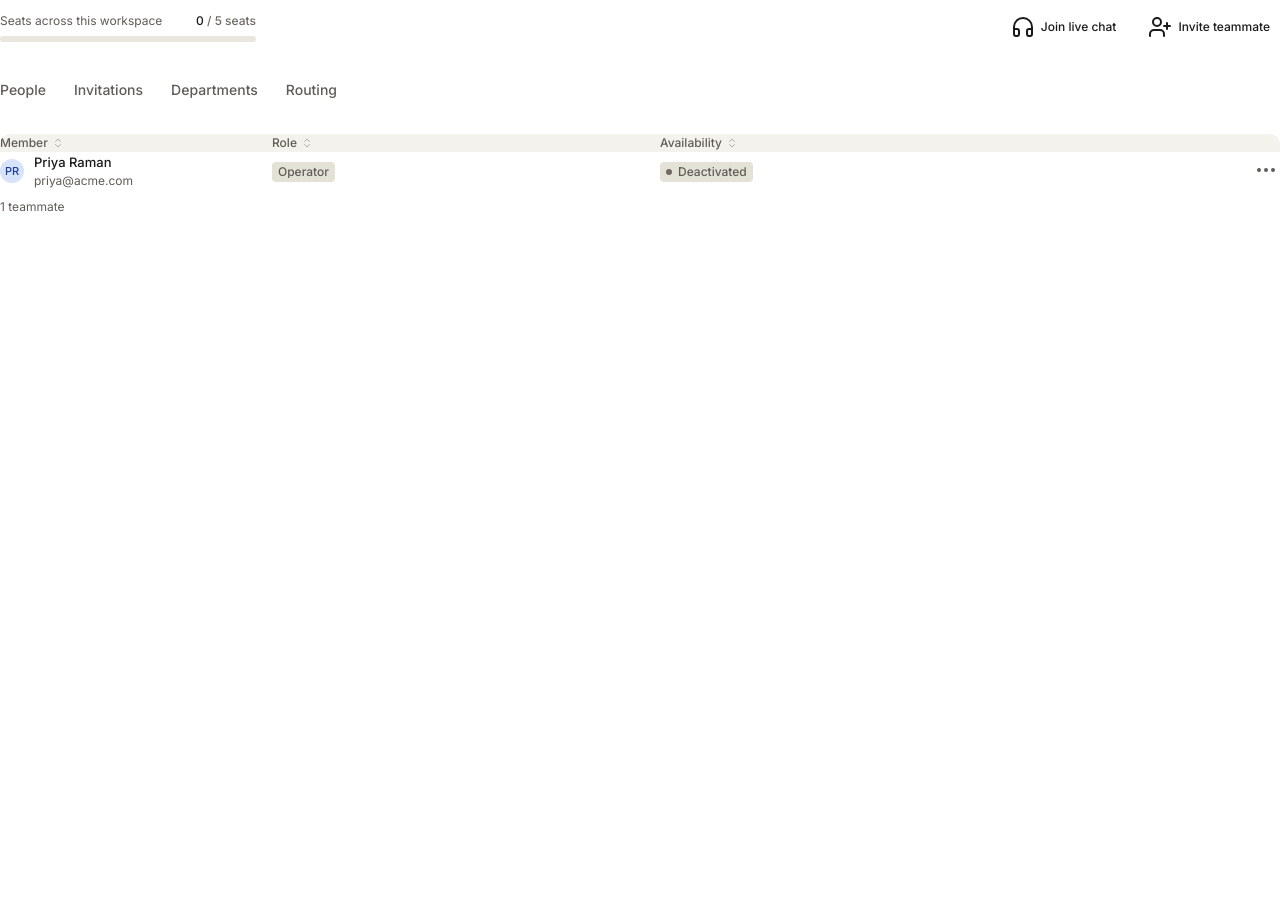
MembersPage — deactivating a teammate › warns that reactivating takes a seat before it asks the server for one
This screenshot has width=1280, height=900.
Expected: the text "Priya Raman" is shown, [34,152,112,172]
Click the button named "actions for priya raman" at (1266, 170), box [1252,156,1279,184]
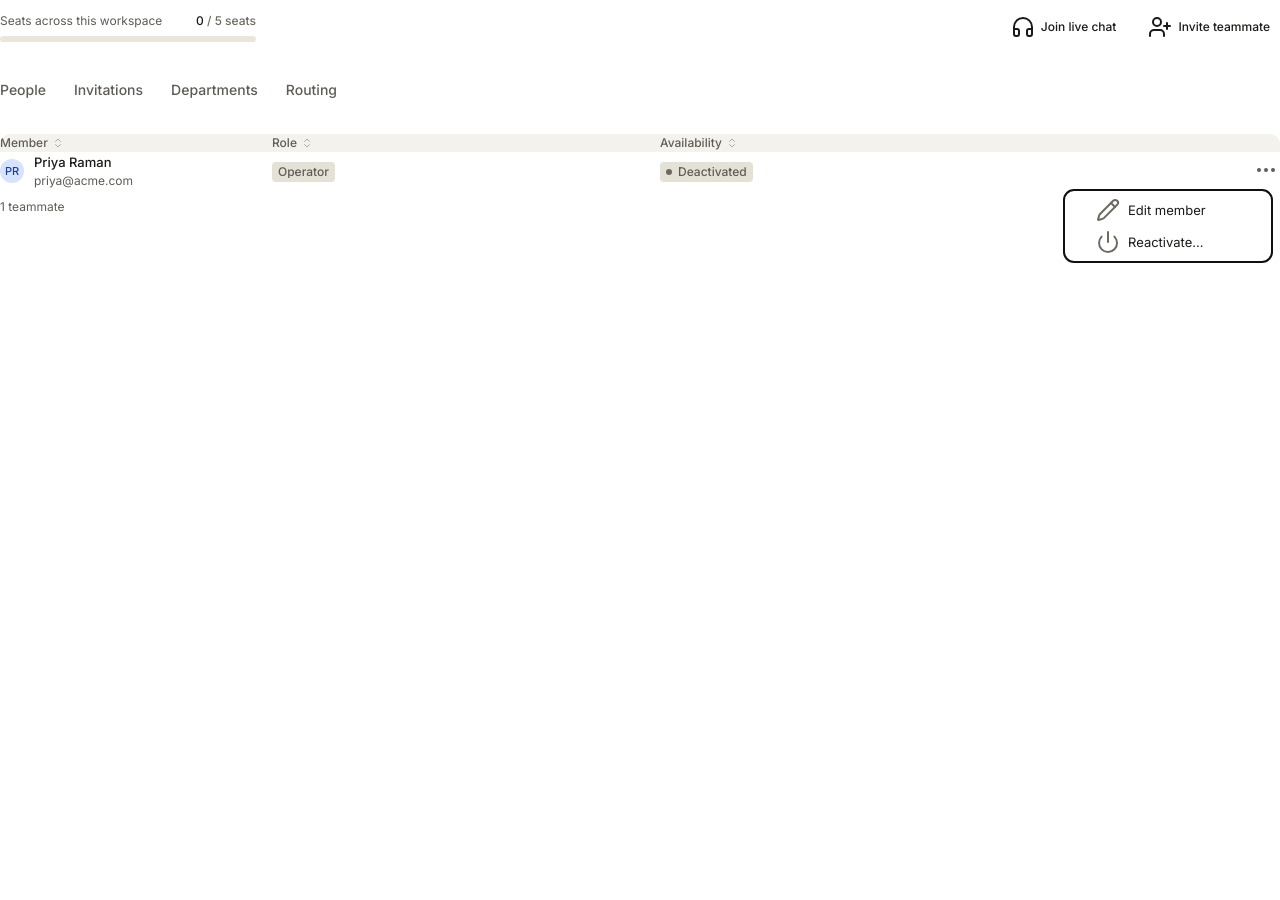
Click the menu item "Reactivate…" at (1150, 242), box [1096,230,1204,254]
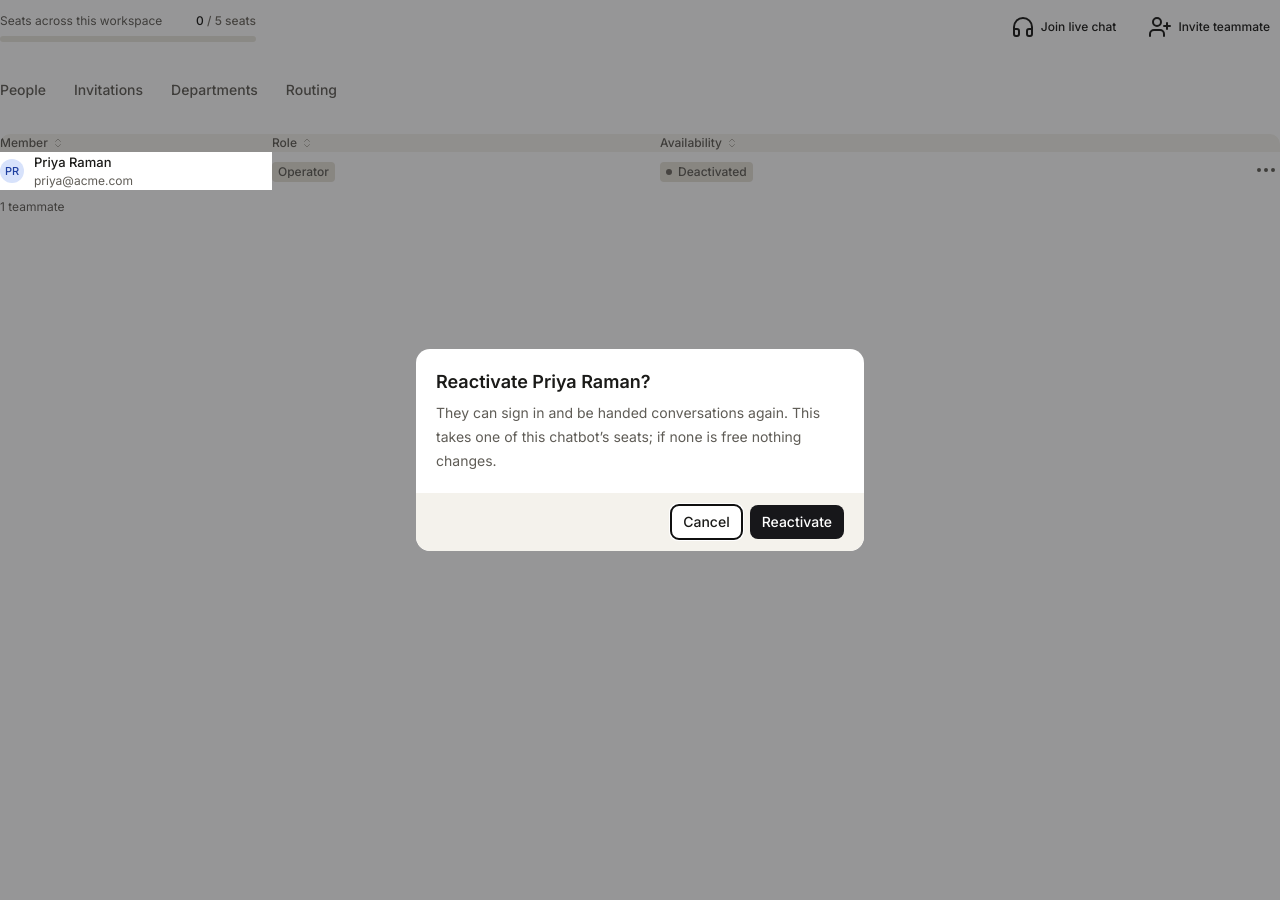
Result: the text "takes one of this chatbot’s seats" is shown at [436,404,820,469]
